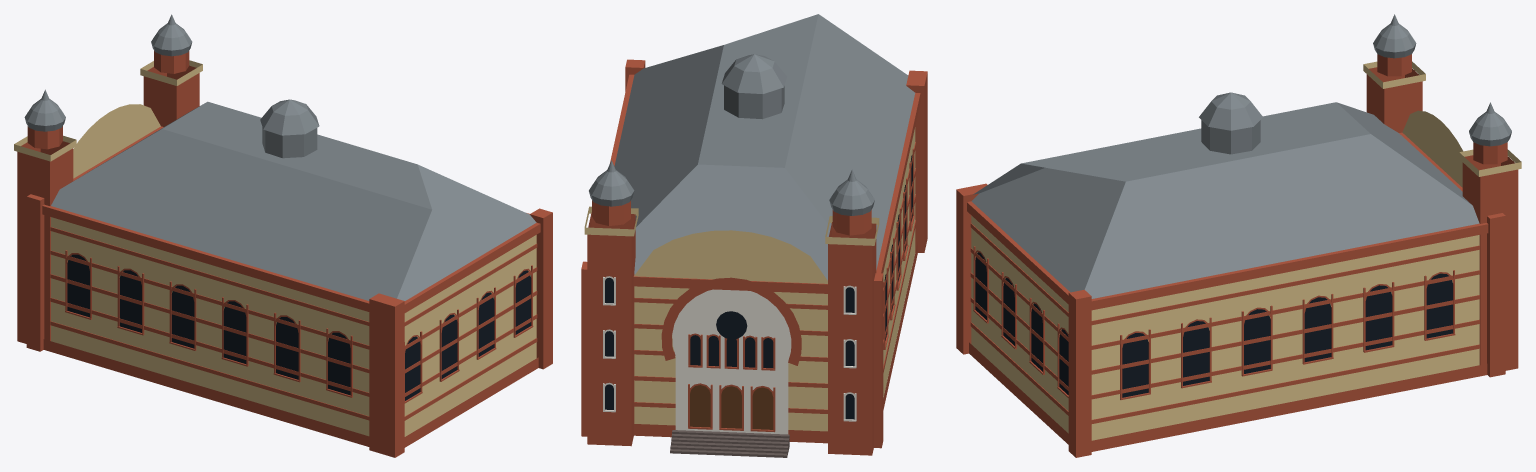
Rendered from philharmonic-hi.glb.
3 renders of one model, left to right at view 1: azimuth 30°, elevation 25°; view 2: azimuth 150°, elevation 25°; view 3: azimuth 270°, elevation 25°, orthographic. The views are drawn at different scales.
Parts seen in each view (by area): view 1: lm-philharmonic; view 2: lm-philharmonic; view 3: lm-philharmonic.
Boxes of the visible parts, left/top/right/bottom form: lm-philharmonic: left=14, top=14, right=552, bottom=457; lm-philharmonic: left=581, top=14, right=927, bottom=457; lm-philharmonic: left=956, top=14, right=1521, bottom=457.
Size of the model in its own units: 37.23 by 23.9 by 45.58.
